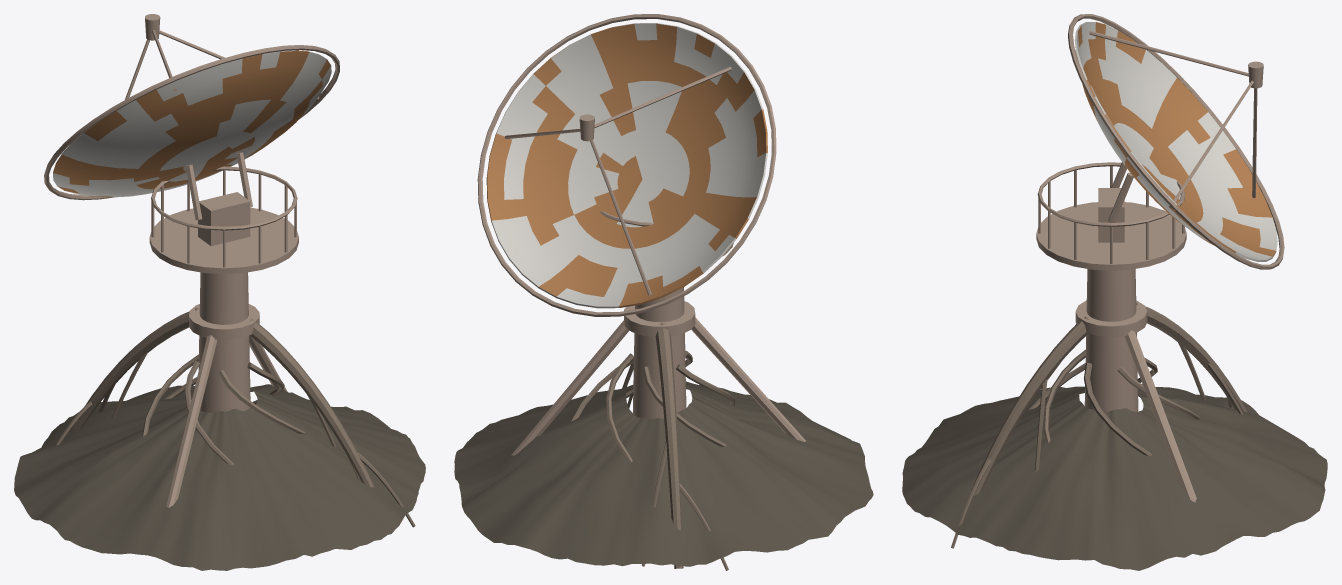
The model's file is parabolica.glb.
The picture shows the model from 3 angles, left to right: view 1: azimuth 30°, elevation 25°; view 2: azimuth 150°, elevation 25°; view 3: azimuth 270°, elevation 25°; orthographic projection.
Parts seen in each view (by area): view 1: parabolica; view 2: parabolica; view 3: parabolica.
Boxes of the visible parts, box(x1,y1,x2,y2) form: parabolica: box(14, 14, 425, 570); parabolica: box(454, 14, 873, 570); parabolica: box(902, 14, 1327, 570).
Bounding box in the file's own units: 6.48 × 7.79 × 6.51.
